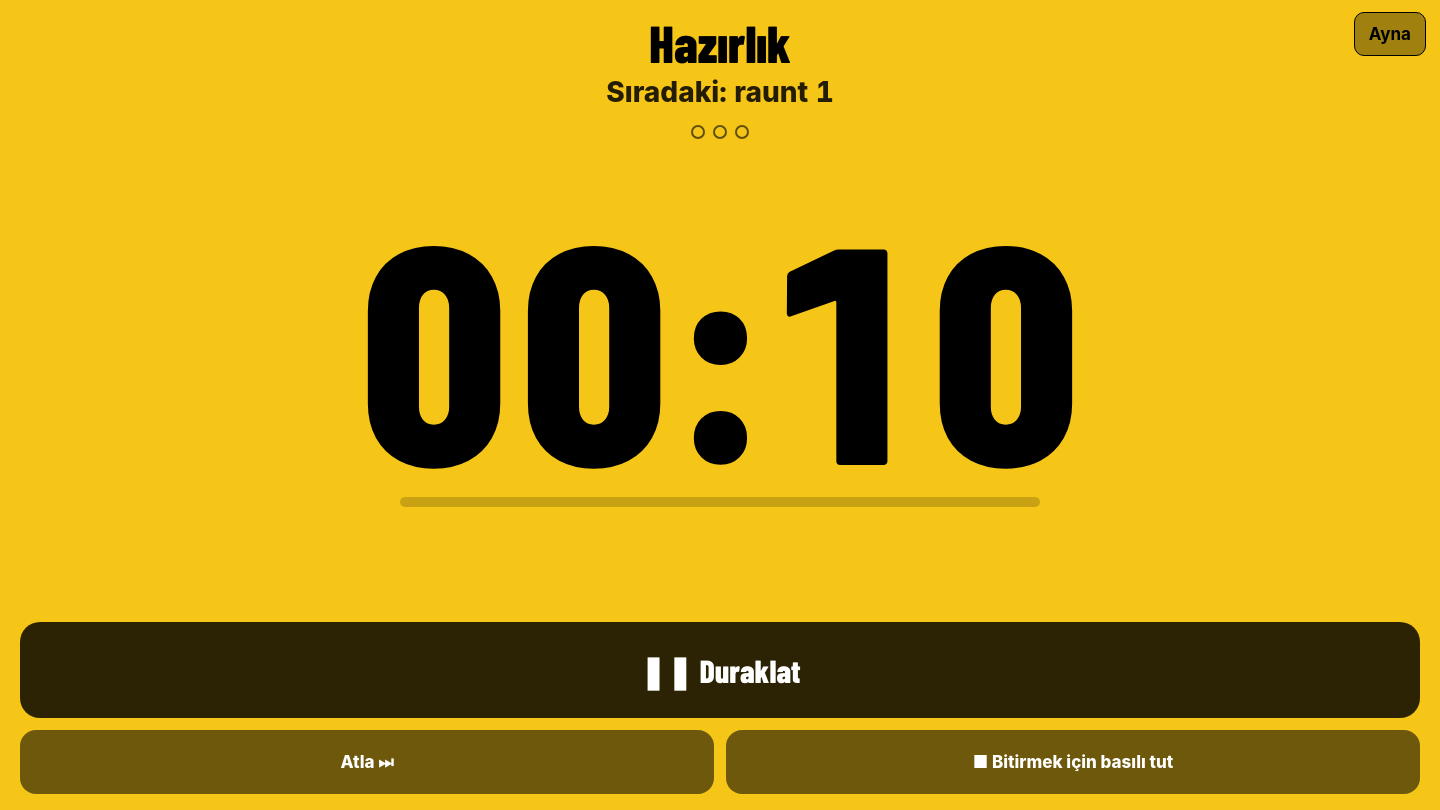
it: Aktif antrenman ekranı › atla ve dinlenmede sıradaki raunt
The image size is (1440, 810).
Step 1. Click the button "Atla ⏭︎" → (367, 762), box [20,730,714,794]
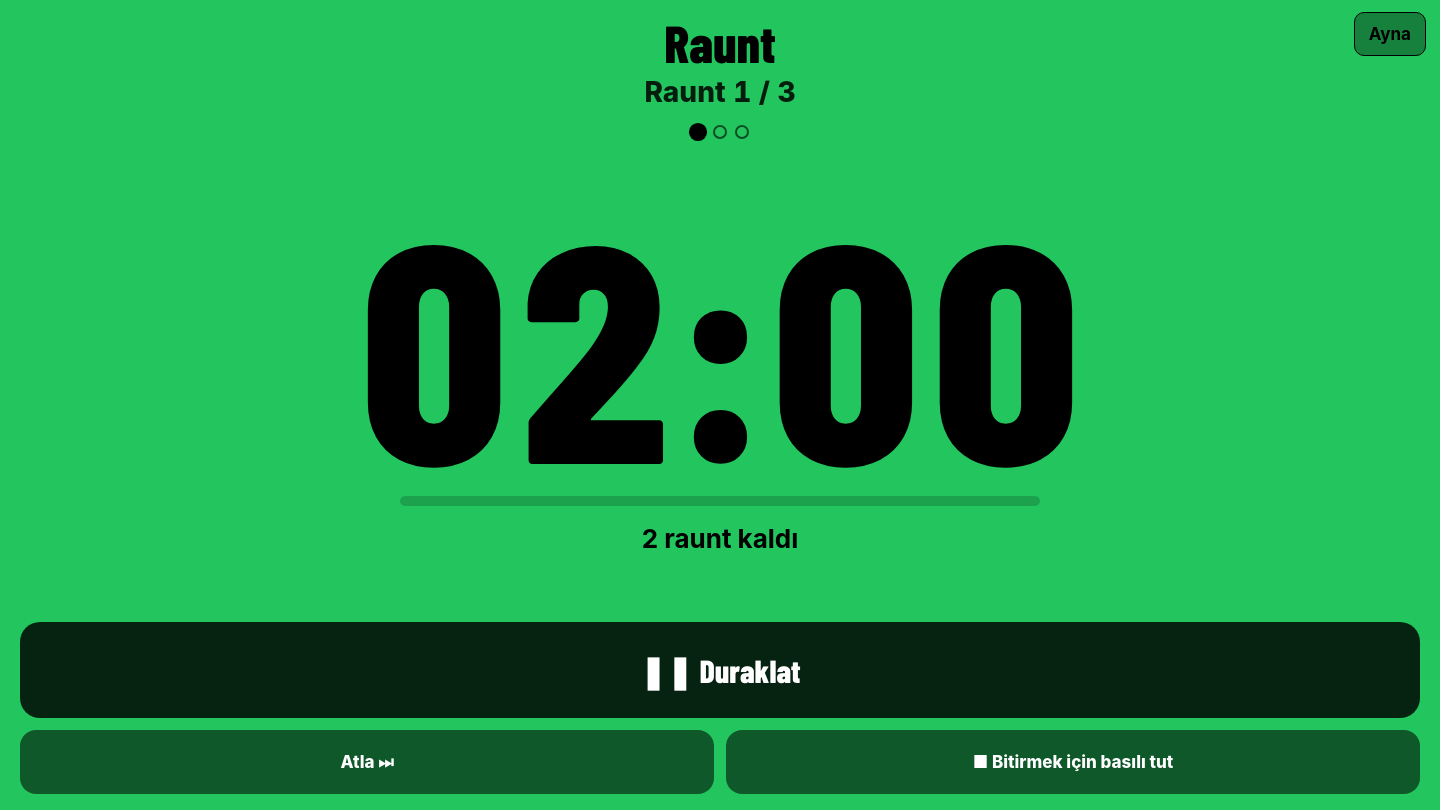
Step 2. Click the button "Atla ⏭︎" → (367, 762), box [20,730,714,794]
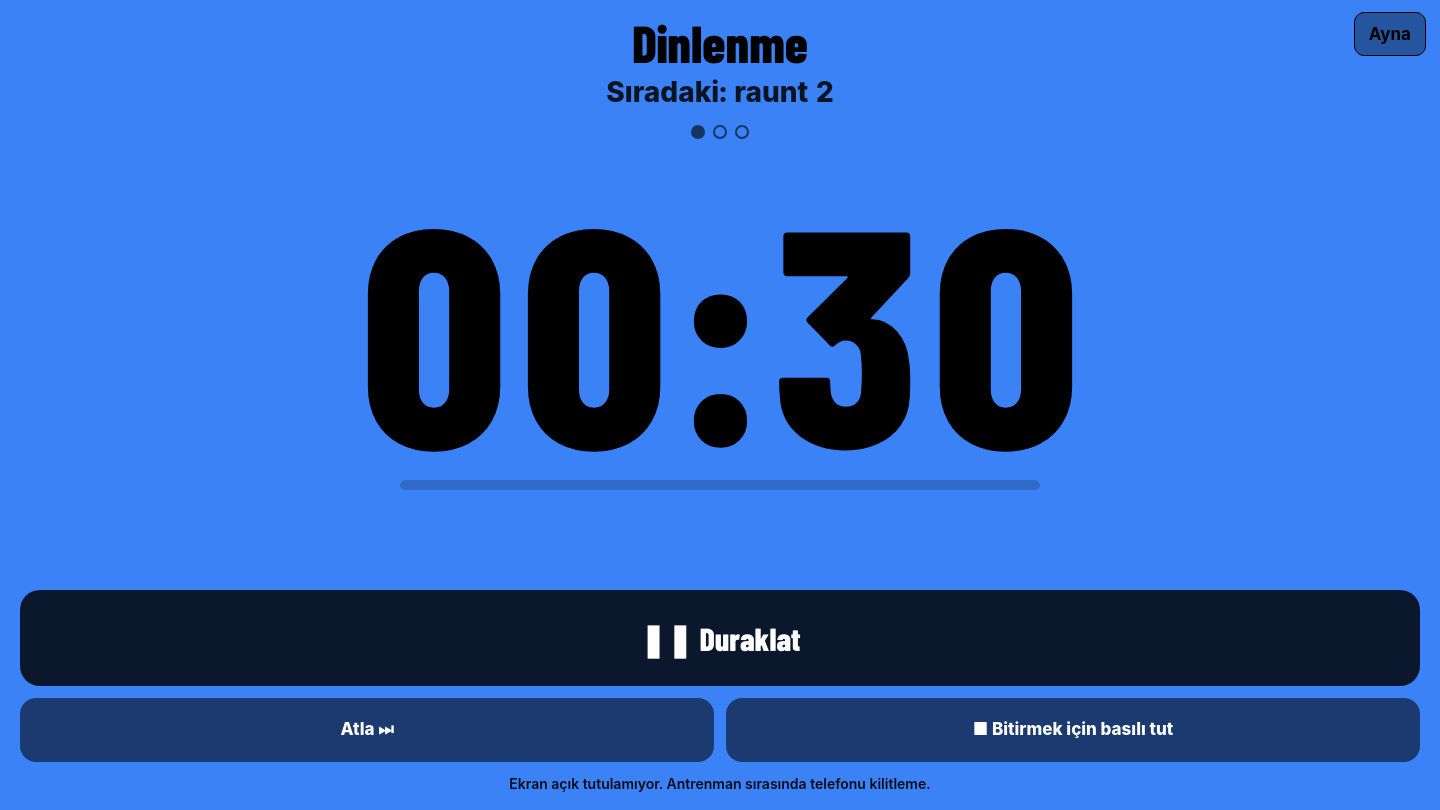
expect the text "Dinlenme" is shown: met, box [632,11,808,73]
expect the text "Sıradaki: raunt 2" is shown: met, box [606,75,834,109]
